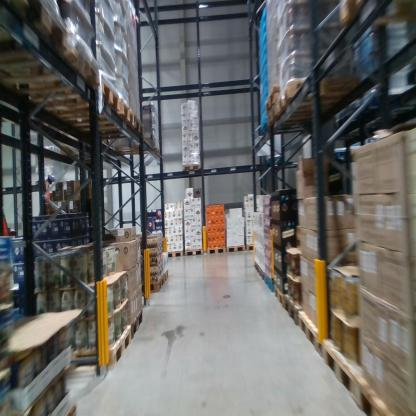pallet: (4, 54, 112, 103), (2, 7, 89, 63), (276, 72, 377, 116), (57, 323, 132, 377), (19, 71, 117, 112), (322, 332, 371, 412), (32, 96, 137, 133), (57, 112, 148, 145), (332, 4, 412, 30), (265, 100, 335, 123), (357, 381, 404, 415), (298, 311, 329, 359), (285, 289, 310, 324), (266, 79, 290, 112), (107, 143, 161, 157), (130, 304, 146, 345), (149, 273, 168, 298), (163, 245, 183, 262), (181, 160, 204, 174), (205, 244, 228, 257), (184, 245, 203, 260), (275, 282, 285, 308), (62, 400, 80, 414), (265, 273, 276, 295), (228, 243, 245, 256), (252, 255, 263, 275), (245, 241, 259, 255), (260, 269, 267, 284), (163, 270, 172, 281)
